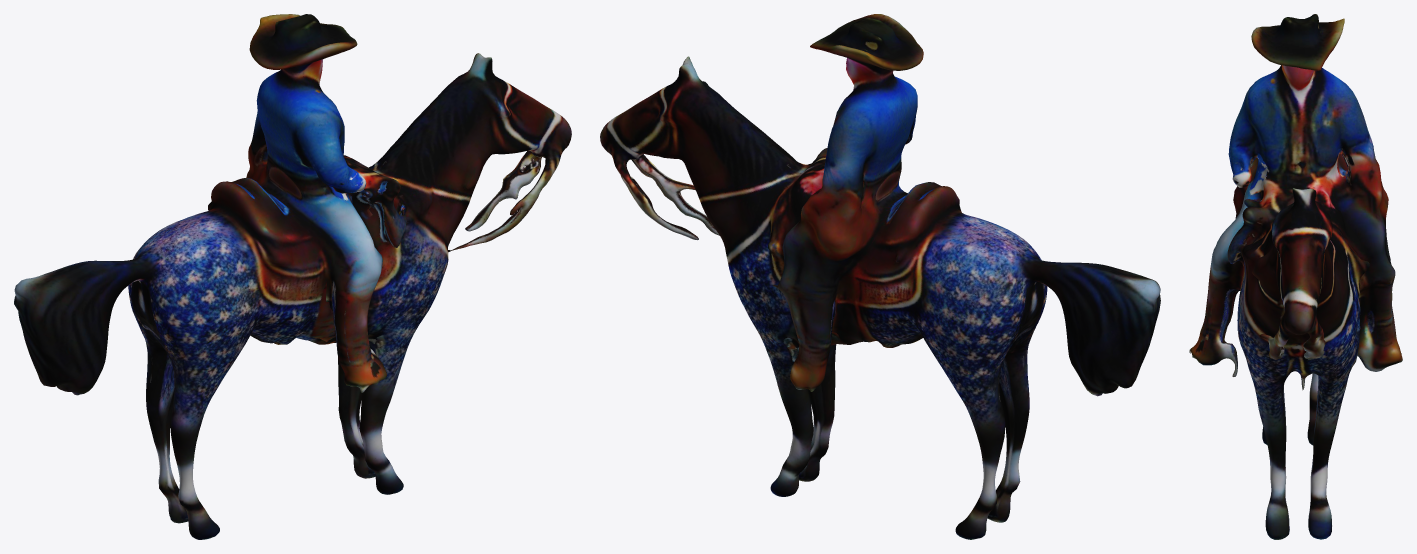
File: f6b5597596b8_cowboy_in_a_horse_3.fbx
3 renders of one model, left to right at view 1: azimuth 30°, elevation 25°; view 2: azimuth 150°, elevation 25°; view 3: azimuth 270°, elevation 25°, orthographic.
Visible parts, largest first — view 1: mesh; view 2: mesh; view 3: mesh.
Part boxes in pixels (x1,y1,x2,y2): mesh: (14,14,571,539); mesh: (600,14,1160,539); mesh: (1189,14,1402,539).
Bounding box in the file's own units: 99.64 × 82.72 × 33.27.
